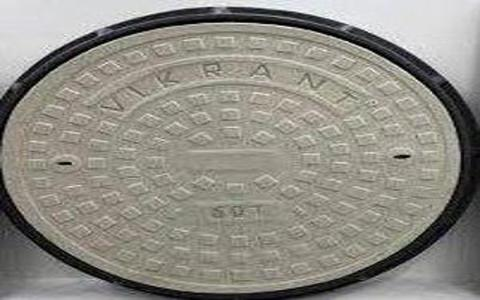proper manhole: (1, 4, 464, 294)
